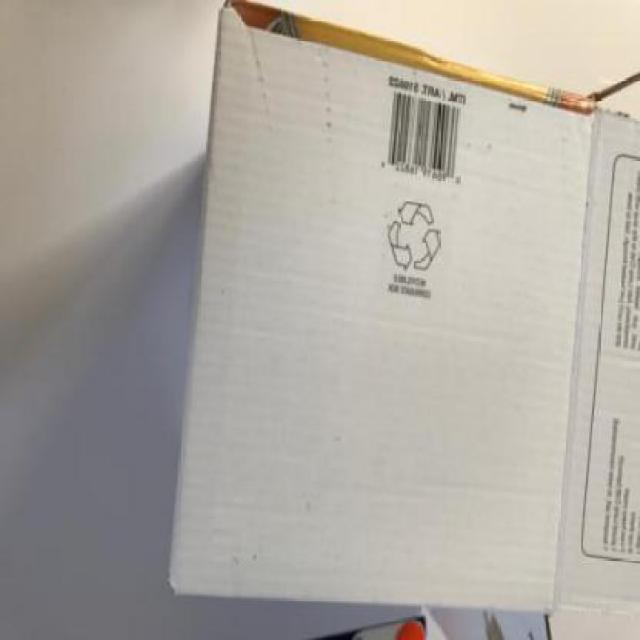box: (171, 5, 638, 614), (311, 614, 554, 638)
